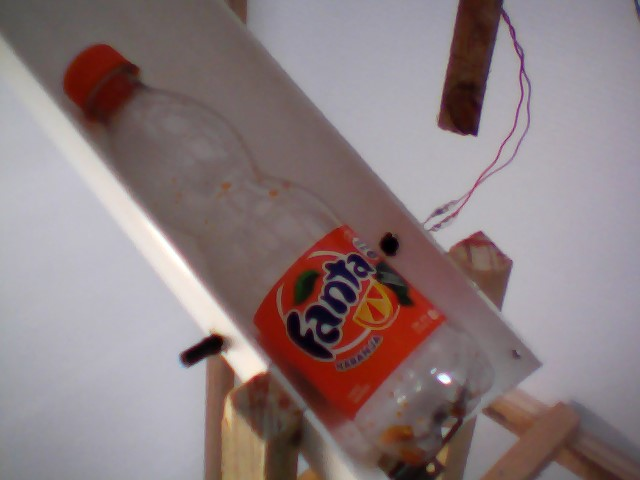plastico: (53, 38, 503, 480)
